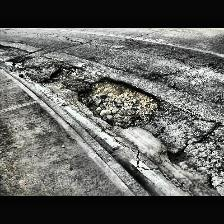pothole: (74, 74, 162, 130), (42, 64, 86, 84), (166, 148, 188, 164), (10, 56, 31, 68), (0, 43, 12, 51)
